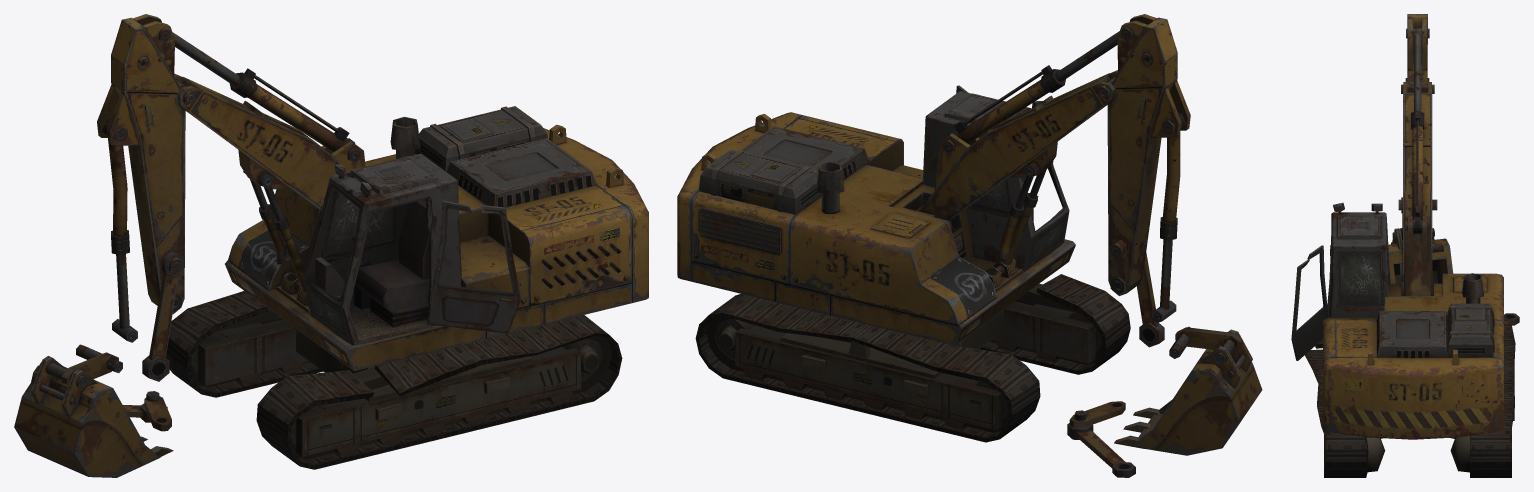
File: mi_ruin011.FBX
3 renders of one model, left to right at view 1: azimuth 30°, elevation 25°; view 2: azimuth 150°, elevation 25°; view 3: azimuth 270°, elevation 25°, orthographic. The views are drawn at different scales.
Parts seen in each view (by area): view 1: mi_ruin011; view 2: mi_ruin011; view 3: mi_ruin011.
Part boxes in pixels (x1=…): mi_ruin011: x1=14, y1=14, x2=648, y2=477; mi_ruin011: x1=677, y1=14, x2=1262, y2=477; mi_ruin011: x1=1291, y1=14, x2=1519, y2=477.
Bounding box in the file's own units: 6.23 × 4.41 × 2.85.
Materials: 1 (1 with a texture image).
